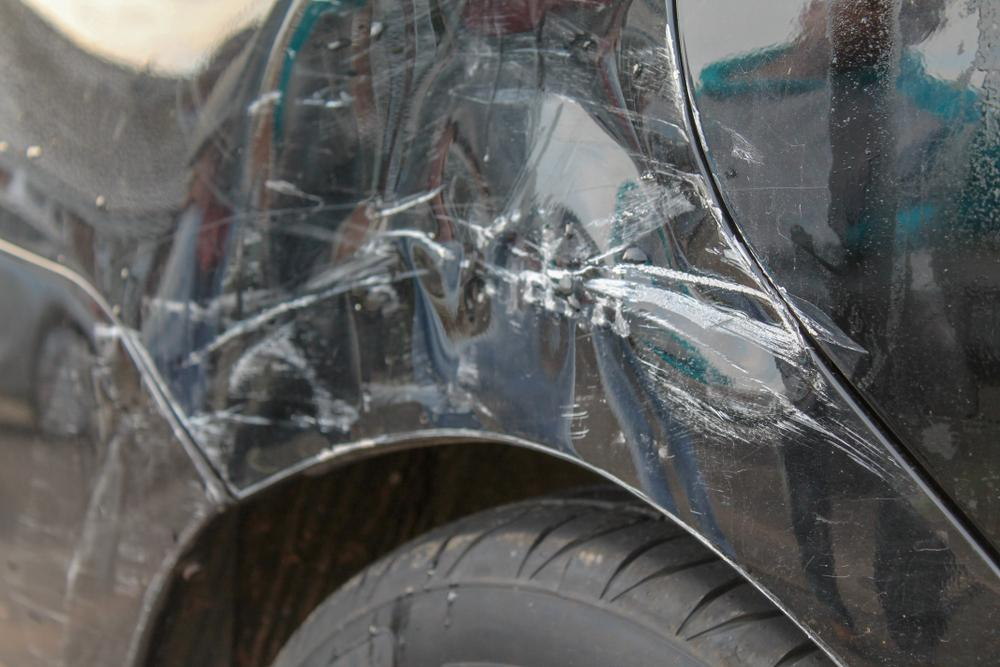scratch: (176, 175, 811, 449)
